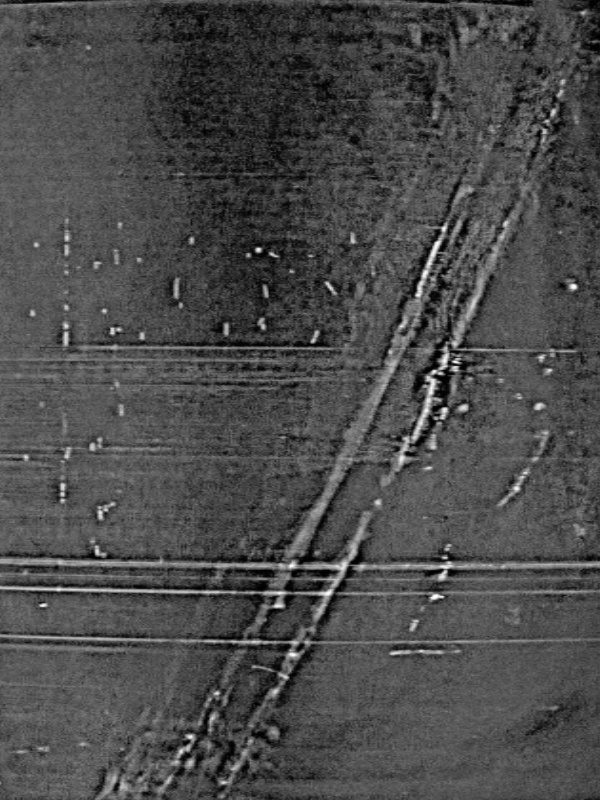splice_vulcanized: (102, 9, 585, 800)
